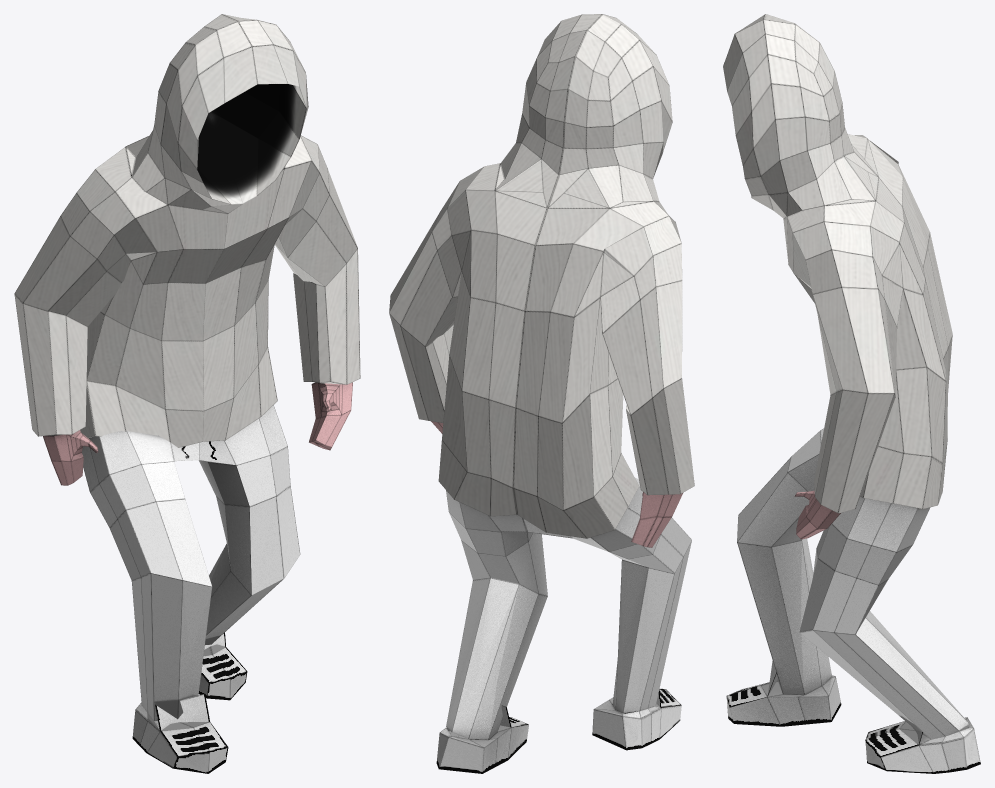
Rendered from Shadowmanv_000028.obj.
The picture shows the model from 3 angles, left to right: view 1: azimuth 30°, elevation 25°; view 2: azimuth 150°, elevation 25°; view 3: azimuth 270°, elevation 25°; orthographic projection. The views are drawn at different scales.
Visible parts, largest first — view 1: Cube.000; view 2: Cube.000; view 3: Cube.000.
Boxes of the visible parts, <box> form: Cube.000: <box>14,14,360,773</box>; Cube.000: <box>389,14,694,773</box>; Cube.000: <box>723,14,980,773</box>.
Size of the model in its own units: 4.92 by 10.81 by 3.49.
